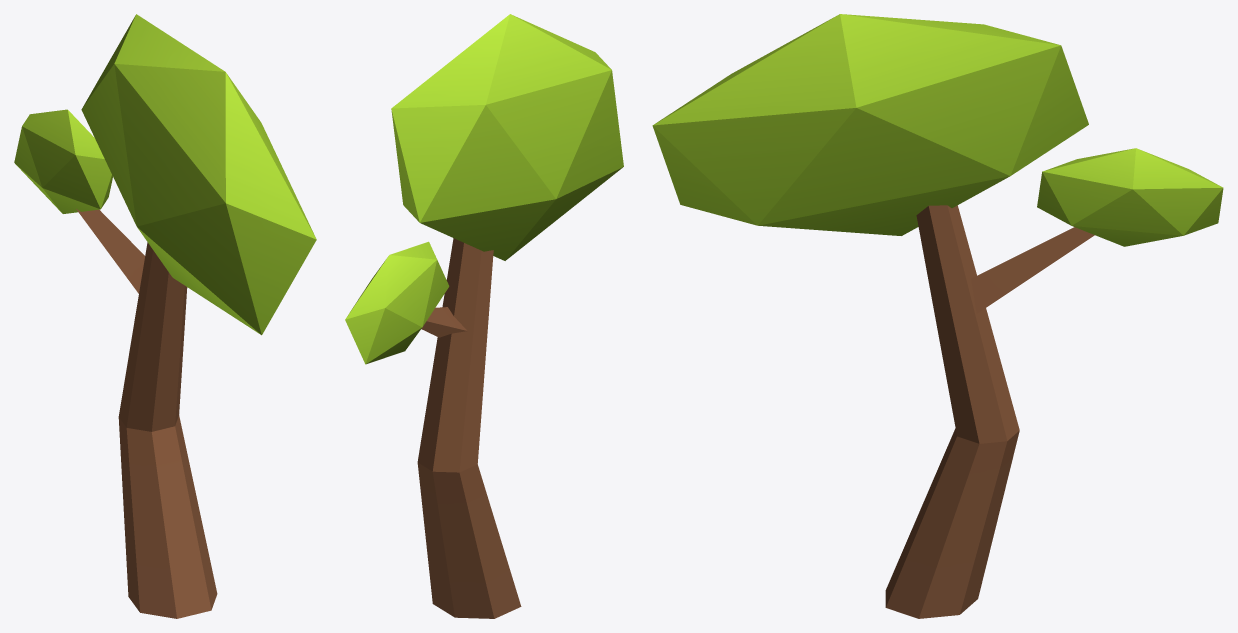
File: Building_Tree.glb
The picture shows the model from 3 angles, left to right: view 1: azimuth 30°, elevation 25°; view 2: azimuth 150°, elevation 25°; view 3: azimuth 270°, elevation 25°; orthographic projection. The views are drawn at different scales.
Parts seen in each view (by area): view 1: Tree.col; view 2: Tree.col; view 3: Tree.col.
Boxes of the visible parts, box(x1,y1,x2,y2) form: Tree.col: box(14, 14, 316, 618); Tree.col: box(345, 14, 623, 618); Tree.col: box(652, 14, 1223, 618).
Bounding box in the file's own units: 2.8 × 13.41 × 11.77.
1 material, 1 textured.
